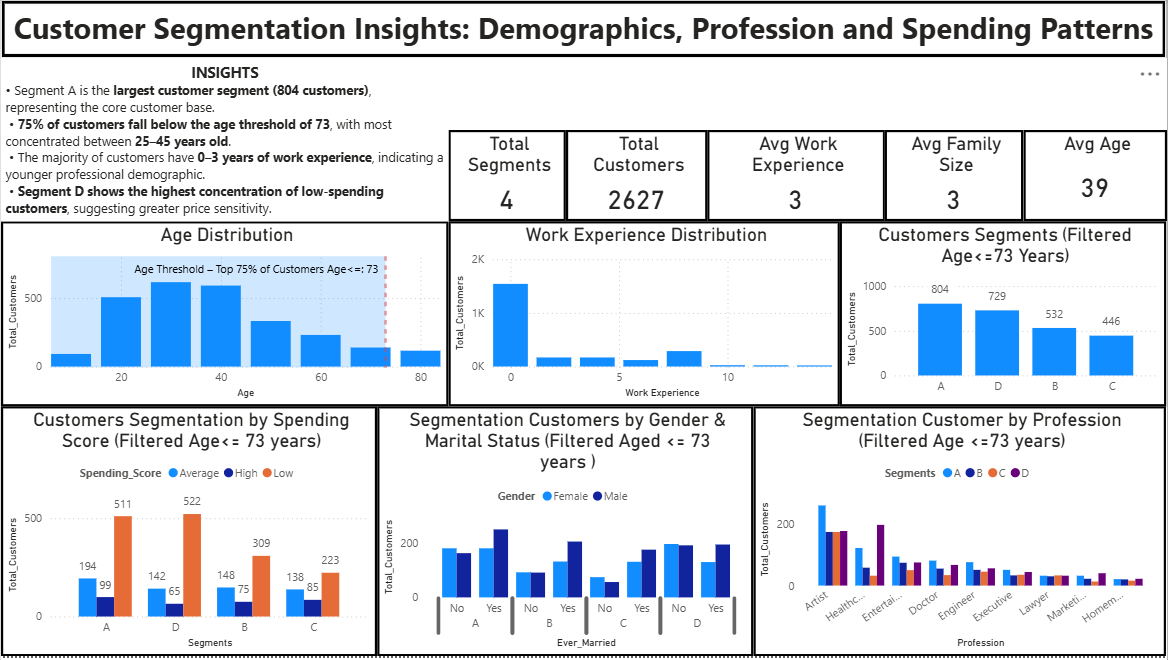

This screenshot's page, from the dashboard's own definition file:
{"tool":"powerbi","page":{"name":"Page 1","canvas":[1280,720],"ordinal":0},"visuals":[{"type":"card","title":"Total Segments ","fields":{"Values":["Customer_Segmentation_dataset.Total_Segments"]},"box":[491.3,142.7,129,100.2],"z":0},{"type":"card","title":"Total Customers","fields":{"Values":["Customer_Segmentation_dataset.Total_Customers"]},"box":[620.2,142.7,155.1,100.2],"z":1000},{"type":"card","title":"Avg Work Experience","fields":{"Values":["Customer_Segmentation_dataset.Avg_Work_Experience"]},"box":[775.3,142.7,194.9,100.2],"z":2000},{"type":"card","title":"Avg Family Size","fields":{"Values":["Customer_Segmentation_dataset.Avg_Family_Size"]},"box":[970.2,142.7,152.3,100.2],"z":3000},{"type":"lineClusteredColumnComboChart","title":" Age Distribution","fields":{"Category":["Customer_Segmentation_dataset.Age_Distribution"],"Y":["Customer_Segmentation_dataset.Total_Customers"]},"box":[0,242.9,491.3,203.1],"z":4000},{"type":"lineClusteredColumnComboChart","title":"Customers Segments (Filtered Age<=73 Years) ","fields":{"Y":["Customer_Segmentation_dataset.Total_Customers"],"Category":["Customer_Segmentation_dataset.Segmentation"]},"box":[920.8,242.9,358.1,203.1],"z":5000},{"type":"clusteredColumnChart","title":"Customers Segmentation by Spending Score (Filtered Age<= 73 years) ","fields":{"Category":["Customer_Segmentation_dataset.Segmentation"],"Y":["Customer_Segmentation_dataset.Total_Customers"],"Series":["Customer_Segmentation_dataset.Spending_Score"]},"box":[0,446,413,274.4],"z":6000},{"type":"card","title":"Avg Age ","fields":{"Values":["Customer_Segmentation_dataset.Avg_Age"]},"box":[1122.5,142.7,157.8,100.2],"z":7000},{"type":"clusteredColumnChart","title":"Segmentation Customers by Gender & Marital Status (Filtered Aged <= 73 years )","fields":{"Category":["Customer_Segmentation_dataset.Segmentation","Customer_Segmentation_dataset.Ever_Married"],"Y":["Customer_Segmentation_dataset.Total_Customers"],"Series":["Customer_Segmentation_dataset.Gender"]},"box":[413,446,413,274.4],"z":8000},{"type":"clusteredColumnChart","title":"Segmentation Customer by Profession  (Filtered Age <=73 years)","fields":{"Category":["Customer_Segmentation_dataset.Profession"],"Y":["Customer_Segmentation_dataset.Total_Customers"],"Series":["Customer_Segmentation_dataset.Segmentation"]},"box":[826.1,446,452.8,274.4],"z":9000},{"type":"clusteredColumnChart","title":" Work Experience Distribution","fields":{"Category":["Customer_Segmentation_dataset.Work_Experience (bins)"],"Y":["Customer_Segmentation_dataset.Total_Customers"]},"box":[491.3,242.9,429.5,203.1],"z":10000},{"type":"textbox","box":[0,63.1,491.3,179.8],"z":11000},{"type":"textbox","box":[0,0,1278.9,63.1],"z":12000}]}

Visuals, with their boxes in screenshot pixels (x1, y1, x2, y2), scaled from the page's 1280x720 canvas onto the 1168x660 screenshot:
"Total Segments " card: locate(448, 131, 566, 223)
"Total Customers" card: locate(566, 131, 707, 223)
"Avg Work Experience" card: locate(707, 131, 885, 223)
"Avg Family Size" card: locate(885, 131, 1024, 223)
" Age Distribution" lineClusteredColumnComboChart: locate(0, 223, 448, 409)
"Customers Segments (Filtered Age<=73 Years) " lineClusteredColumnComboChart: locate(840, 223, 1167, 409)
"Customers Segmentation by Spending Score (Filtered Age<= 73 years) " clusteredColumnChart: locate(0, 409, 377, 659)
"Avg Age " card: locate(1024, 131, 1167, 223)
"Segmentation Customers by Gender & Marital Status (Filtered Aged <= 73 years )" clusteredColumnChart: locate(377, 409, 754, 659)
"Segmentation Customer by Profession  (Filtered Age <=73 years)" clusteredColumnChart: locate(754, 409, 1167, 659)
" Work Experience Distribution" clusteredColumnChart: locate(448, 223, 840, 409)
textbox: locate(0, 58, 448, 223)
textbox: locate(0, 0, 1167, 58)
